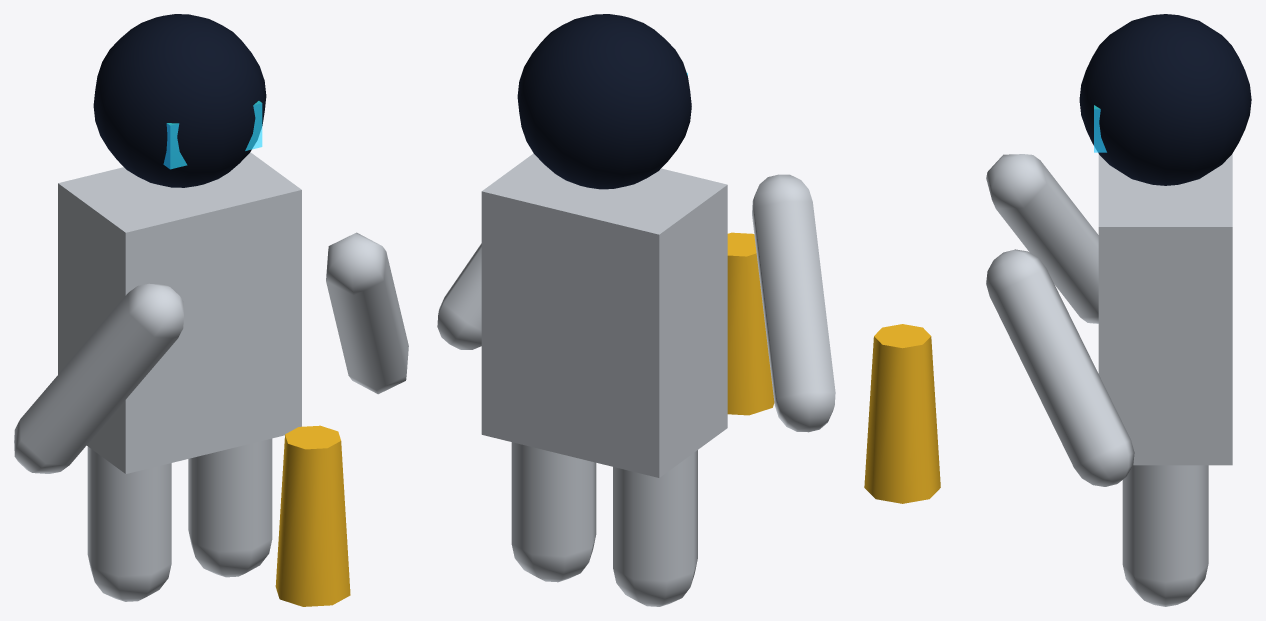
Rendered from crew.glb.
The picture shows the model from 3 angles, left to right: view 1: azimuth 30°, elevation 25°; view 2: azimuth 150°, elevation 25°; view 3: azimuth 270°, elevation 25°; orthographic projection. The views are drawn at different scales.
Visible parts, largest first — view 1: torso, helmet, leftArm, gun, leftLeg, rightLeg, rightArm, visor; view 2: torso, helmet, leftArm, leftLeg, rightLeg, gun, rightArm; view 3: torso, helmet, rightArm, gun, rightLeg, leftArm.
Part boxes in pixels (left/top/right/bottom): torso: left=58, top=152, right=301, bottom=473; helmet: left=93, top=14, right=266, bottom=187; leftArm: left=14, top=283, right=183, bottom=473; gun: left=275, top=425, right=350, bottom=606; leftLeg: left=87, top=446, right=171, bottom=601; rightLeg: left=188, top=438, right=272, bottom=577; rightArm: left=326, top=232, right=408, bottom=394; visor: left=163, top=101, right=262, bottom=169; torso: left=481, top=153, right=727, bottom=477; helmet: left=517, top=14, right=691, bottom=189; leftArm: left=752, top=174, right=835, bottom=432; leftLeg: left=613, top=450, right=697, bottom=606; rightLeg: left=511, top=442, right=596, bottom=582; gun: left=727, top=232, right=774, bottom=415; rightArm: left=437, top=243, right=481, bottom=349; torso: left=1098, top=154, right=1232, bottom=465; helmet: left=1079, top=14, right=1251, bottom=185; rightArm: left=986, top=249, right=1134, bottom=486; gun: left=864, top=324, right=940, bottom=503; rightLeg: left=1122, top=465, right=1208, bottom=606; leftArm: left=986, top=154, right=1098, bottom=323.
Bounding box in the file's own units: 0.2339 × 0.3213 × 0.2025.
